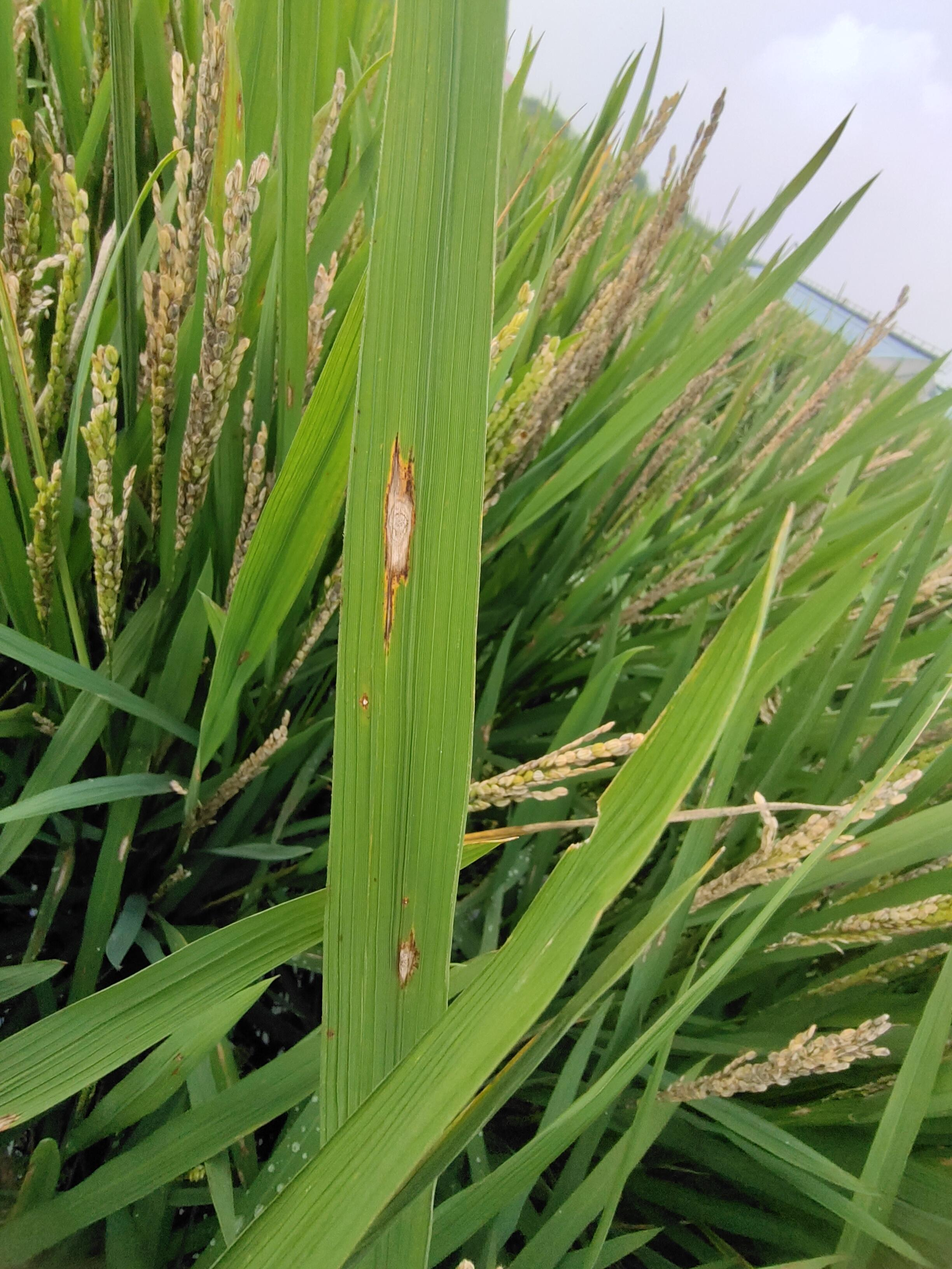LEAF: (320, 0, 505, 1148)
LEAF BLAST: (384, 431, 416, 651), (397, 928, 419, 988), (359, 692, 369, 710)
